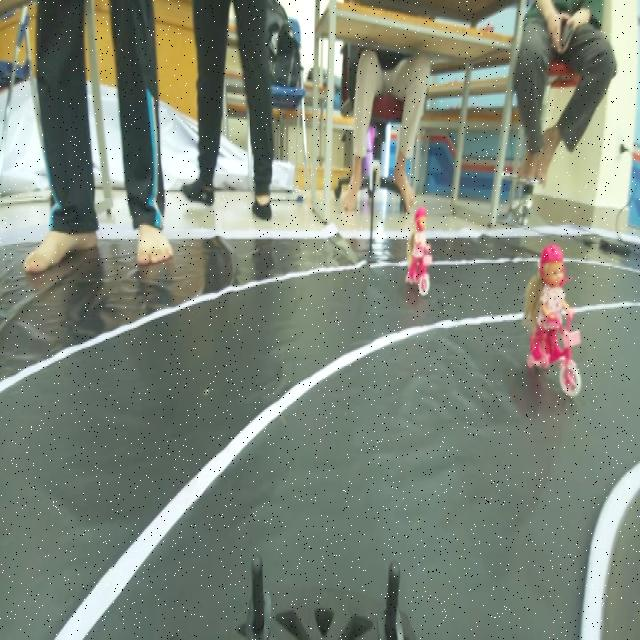pedestrian: (528, 230, 580, 400), (404, 200, 438, 304)
